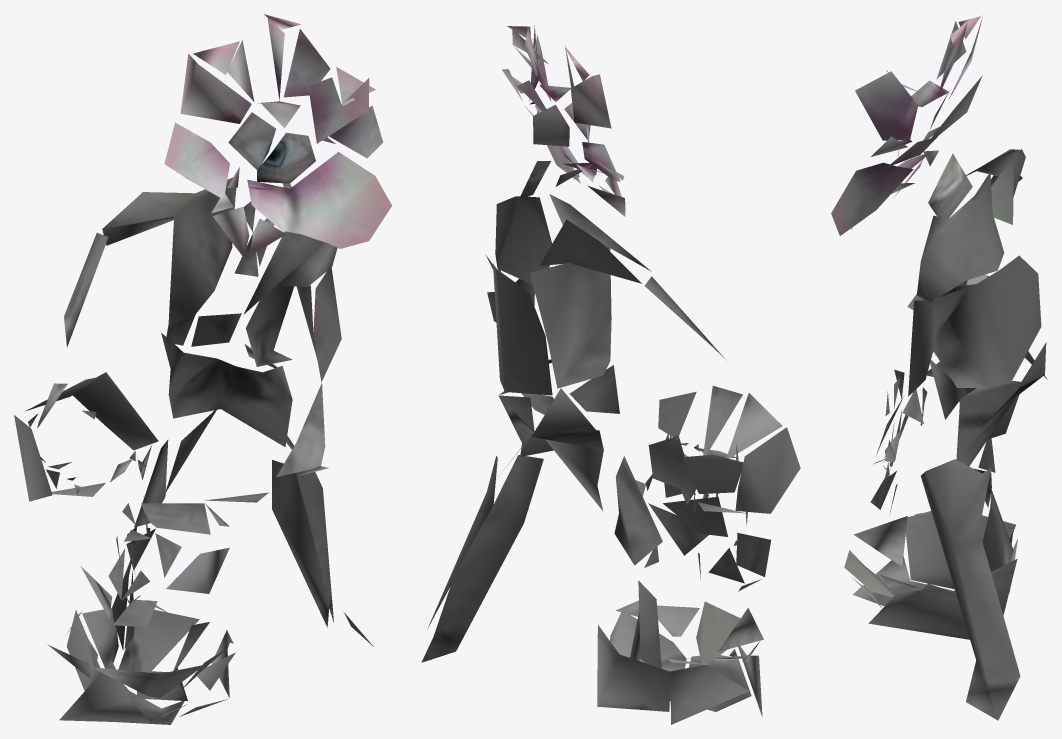
The model's file is crowd_clerk_lite.glb.
3 renders of one model, left to right at view 1: azimuth 30°, elevation 25°; view 2: azimuth 150°, elevation 25°; view 3: azimuth 270°, elevation 25°, orthographic. The views are drawn at different scales.
Visible parts, largest first — view 1: tripo_node_693e19a1-a717-4693-80da-2d3c8cc25a0a; view 2: tripo_node_693e19a1-a717-4693-80da-2d3c8cc25a0a; view 3: tripo_node_693e19a1-a717-4693-80da-2d3c8cc25a0a.
Boxes of the visible parts, x1,y1,x2,y2 form: tripo_node_693e19a1-a717-4693-80da-2d3c8cc25a0a: (14, 14, 391, 724); tripo_node_693e19a1-a717-4693-80da-2d3c8cc25a0a: (421, 25, 800, 724); tripo_node_693e19a1-a717-4693-80da-2d3c8cc25a0a: (831, 16, 1047, 720).
Bounding box in the file's own units: 0.9917 × 1.84 × 0.5462.
1 material, 1 textured.
